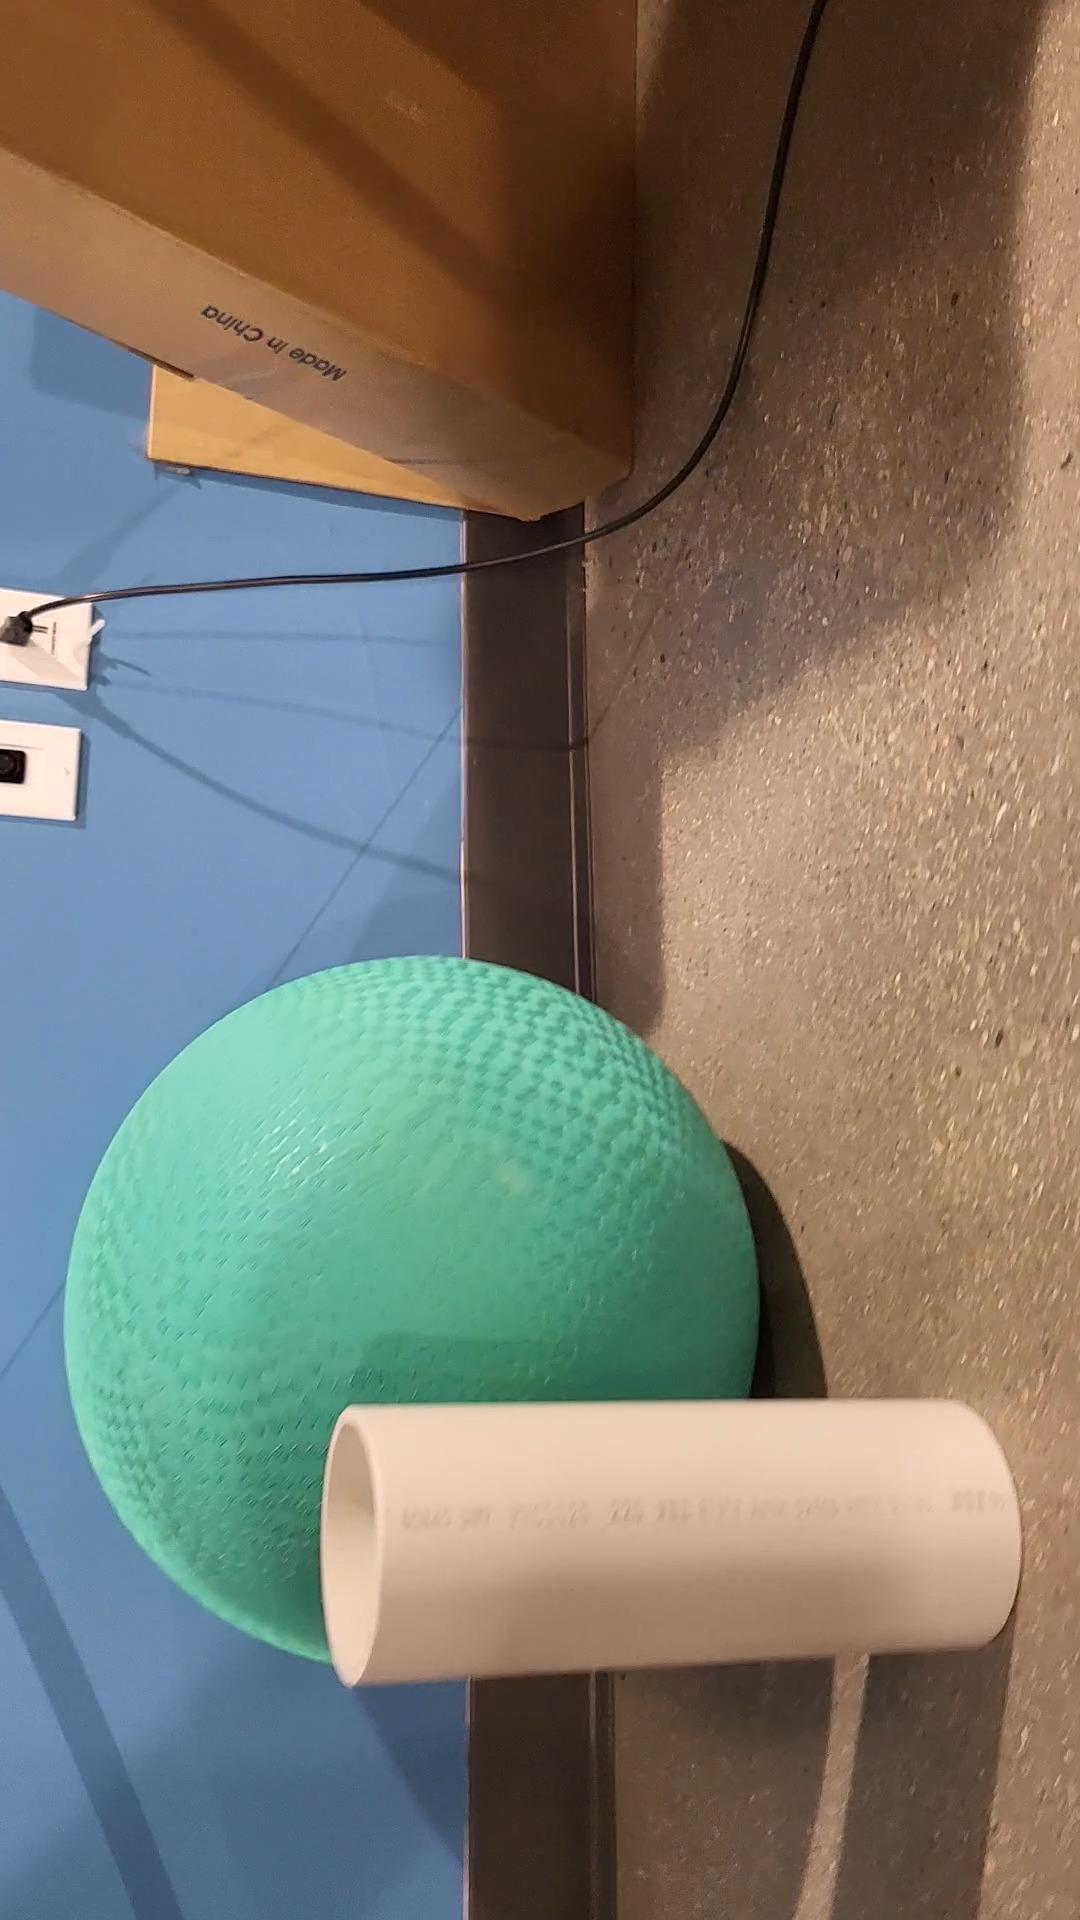algae: (65, 957, 762, 1665)
coral: (323, 1400, 1022, 1685)
